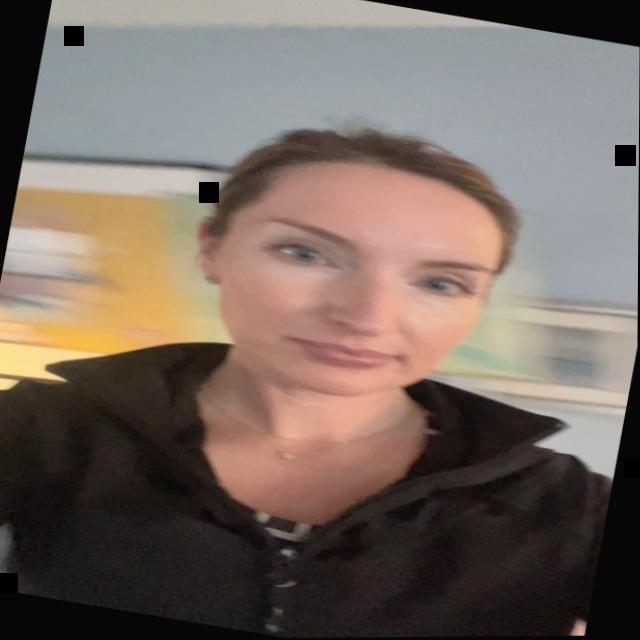NO-Mask: (170, 129, 523, 448)
